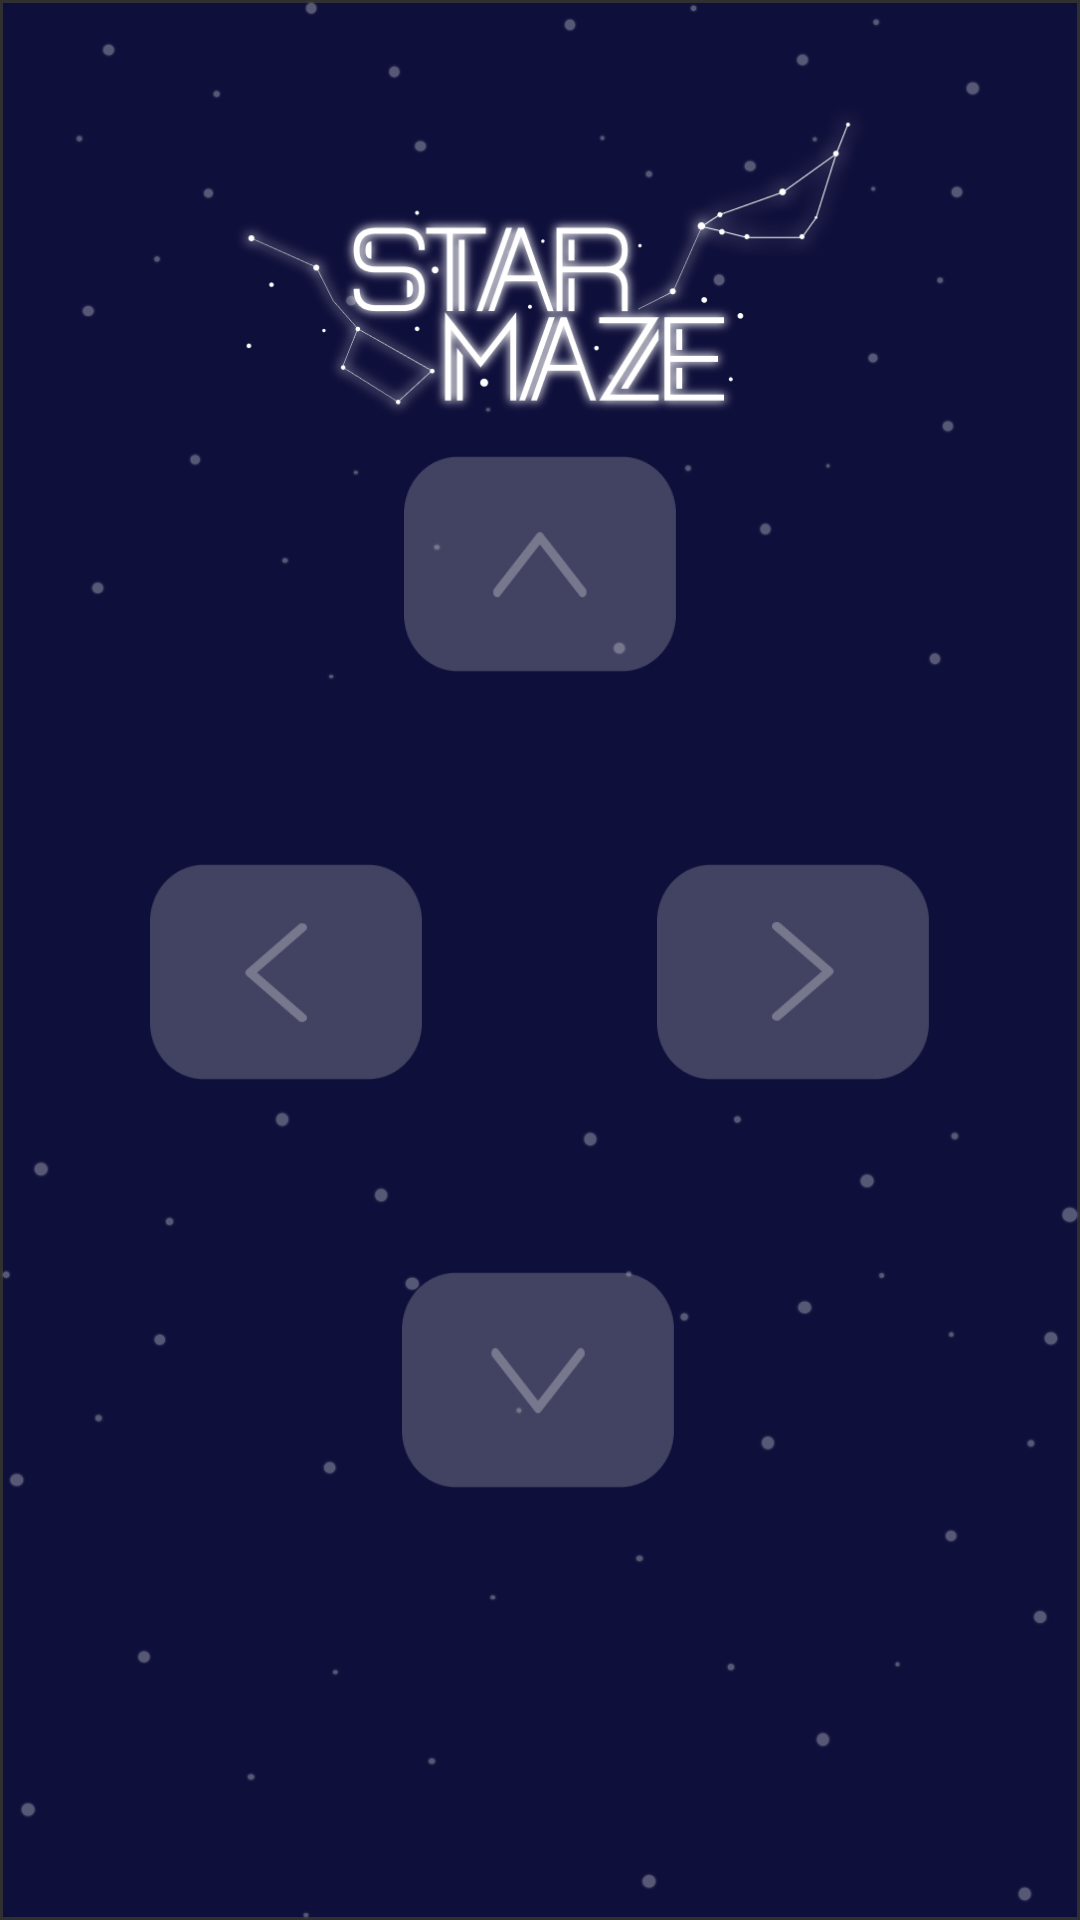

Icon bounding boxes for this 1080x1920 phone screenshot, format (x1, y1, x2, y2):
downbtn: (402, 1272, 674, 1487)
leftbtn: (150, 865, 422, 1079)
rightbtn: (657, 865, 929, 1079)
upbtn: (404, 457, 676, 671)
